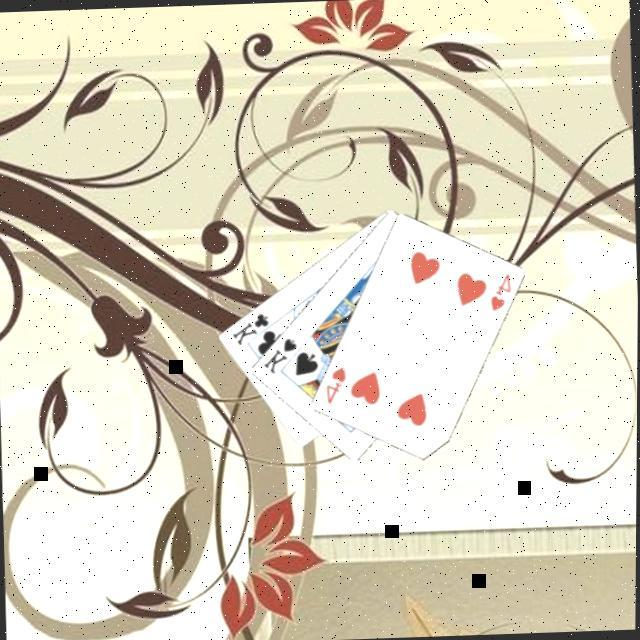4H: (487, 270, 517, 315), (323, 364, 351, 409)
KC: (229, 310, 282, 350)
KS: (260, 335, 302, 378)
